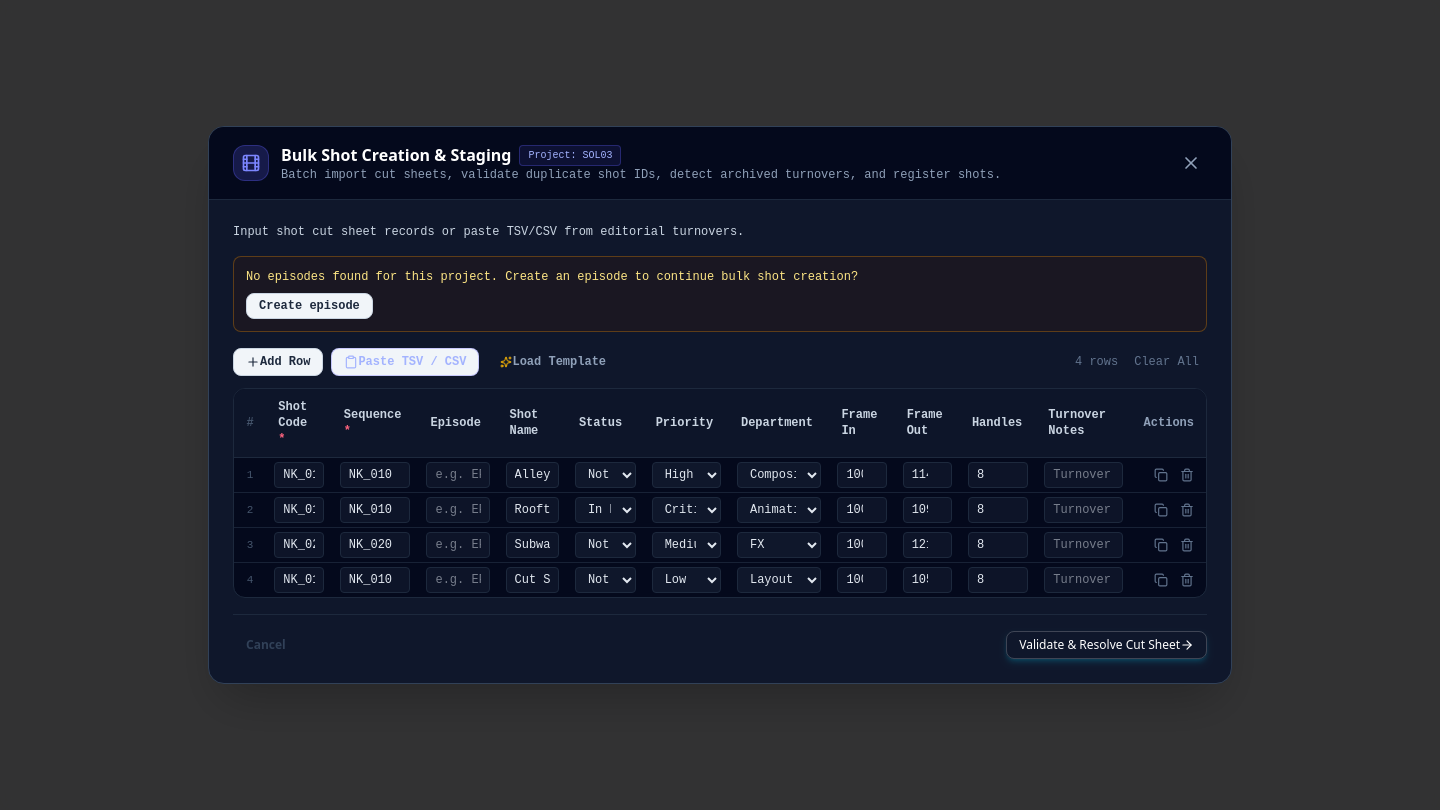
Test: bulk shot creation on episodic projects › surfaces creation failures without losing the form or grid
The width and height of the screenshot is (1440, 810).
Click the button "Create episode".
click(309, 306)  # box top-left (246, 293), bottom-right (373, 319)
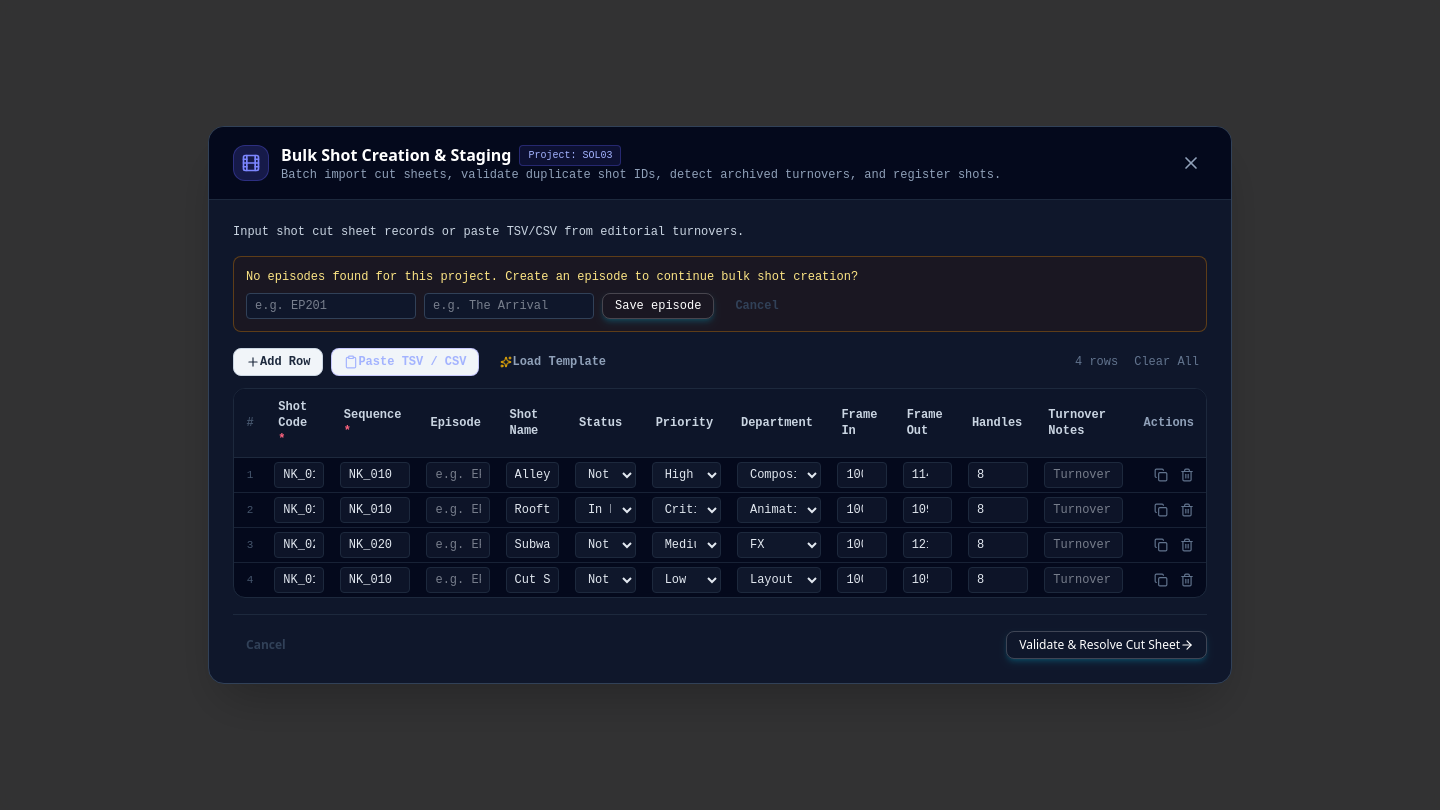
Type "EP201" into the field with placeholder "e.g. EP201".
click(331, 306); type("EP201")  # box top-left (246, 293), bottom-right (416, 319)
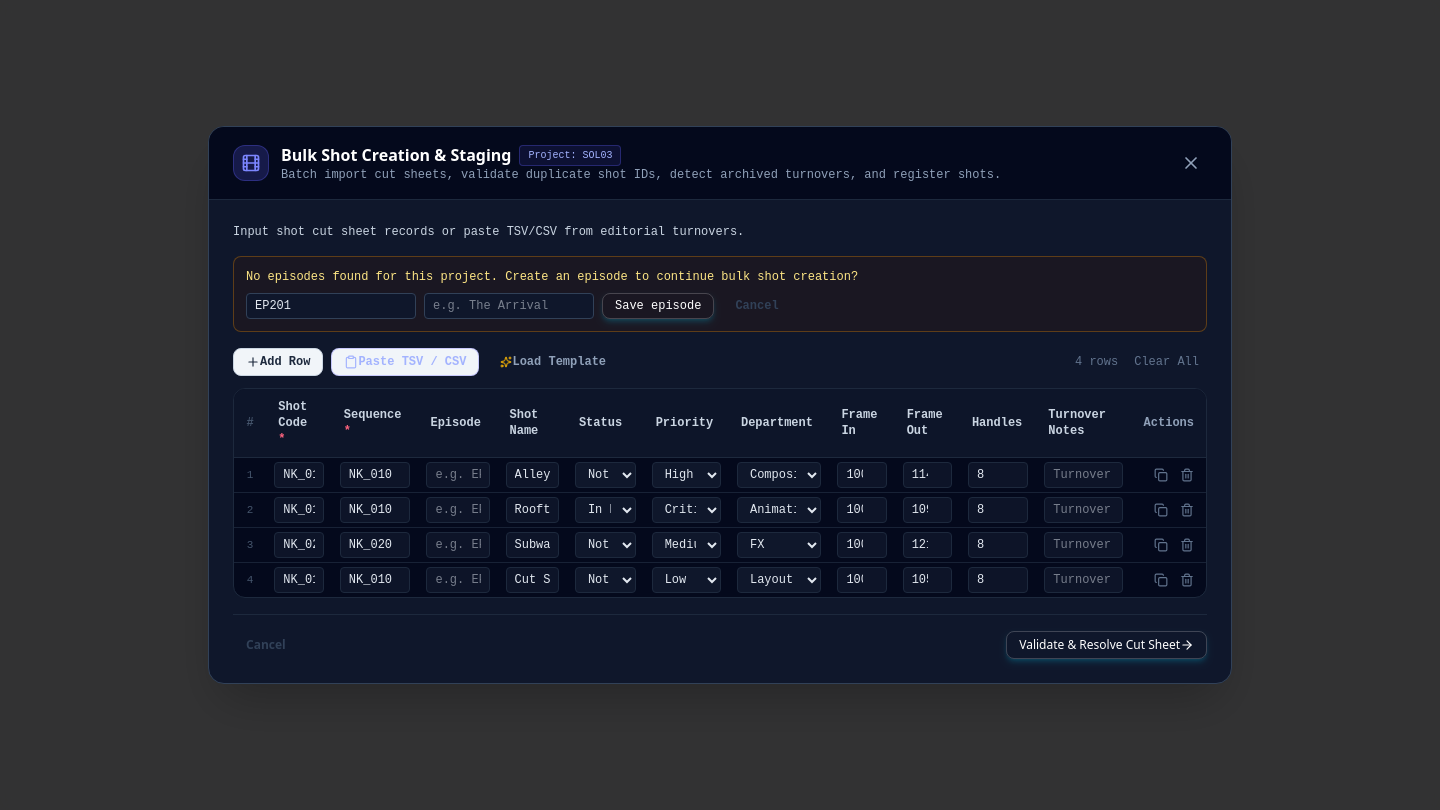
Type "New Ep" into the field with placeholder "e.g. The Arrival".
click(509, 306); type("New Ep")  # box top-left (424, 293), bottom-right (594, 319)
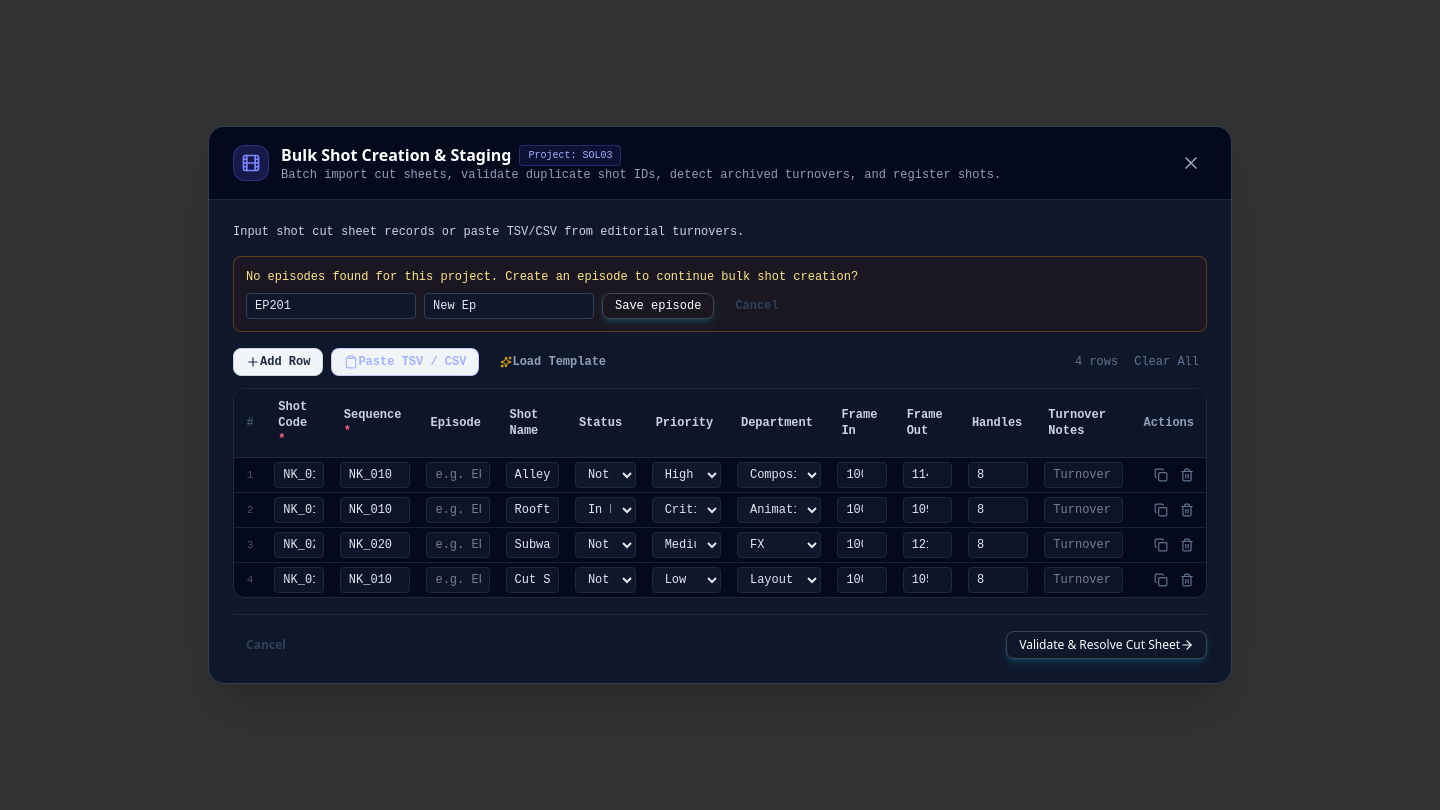
Click the button "Save episode".
click(658, 306)  # box top-left (602, 293), bottom-right (714, 319)
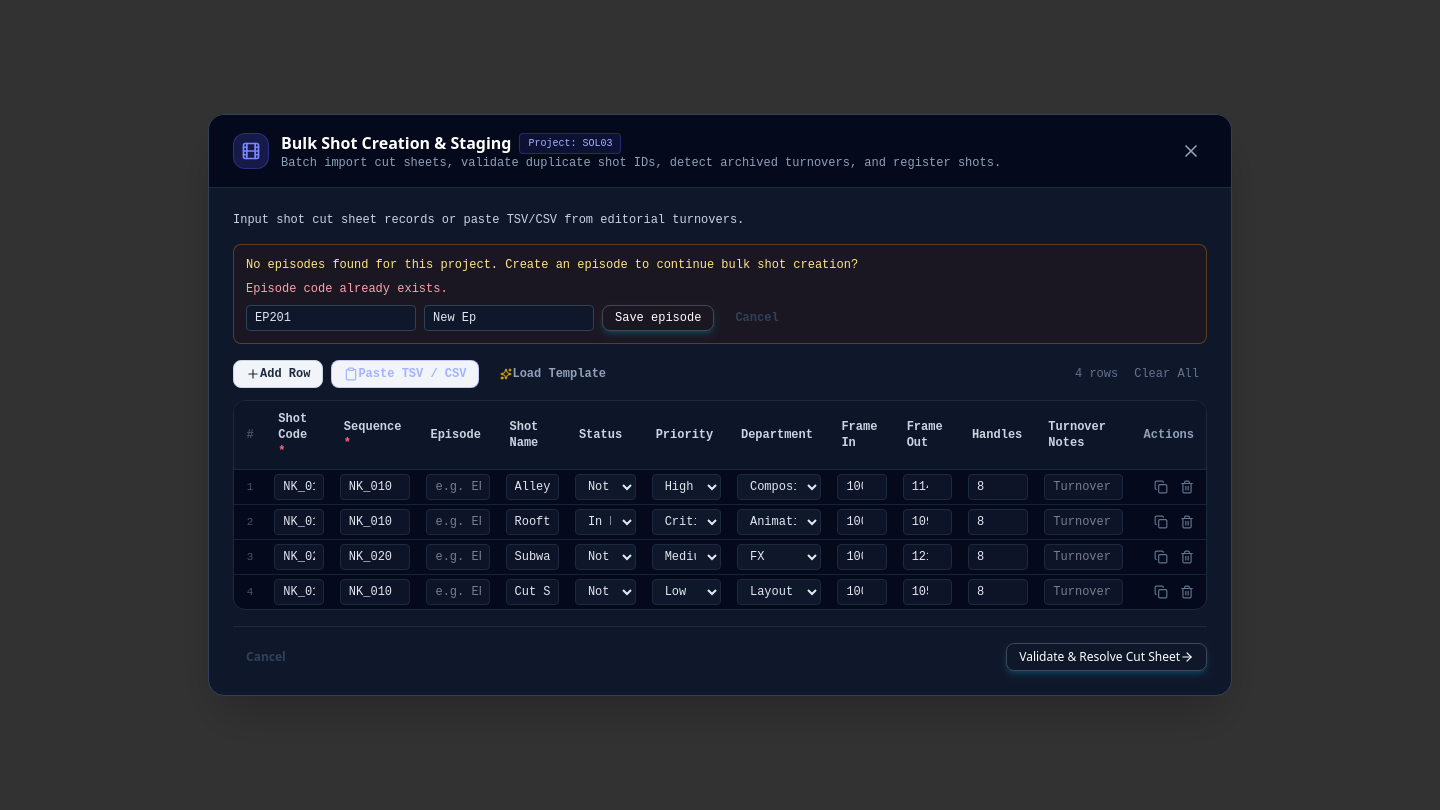
Expected: the text "No episodes found for this project" is shown, top-left (246, 258), bottom-right (858, 272)
Now the message shows "Episode code already exists", box top-left (246, 282), bottom-right (448, 296)
